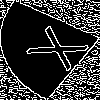X: (25, 25, 100, 78)
